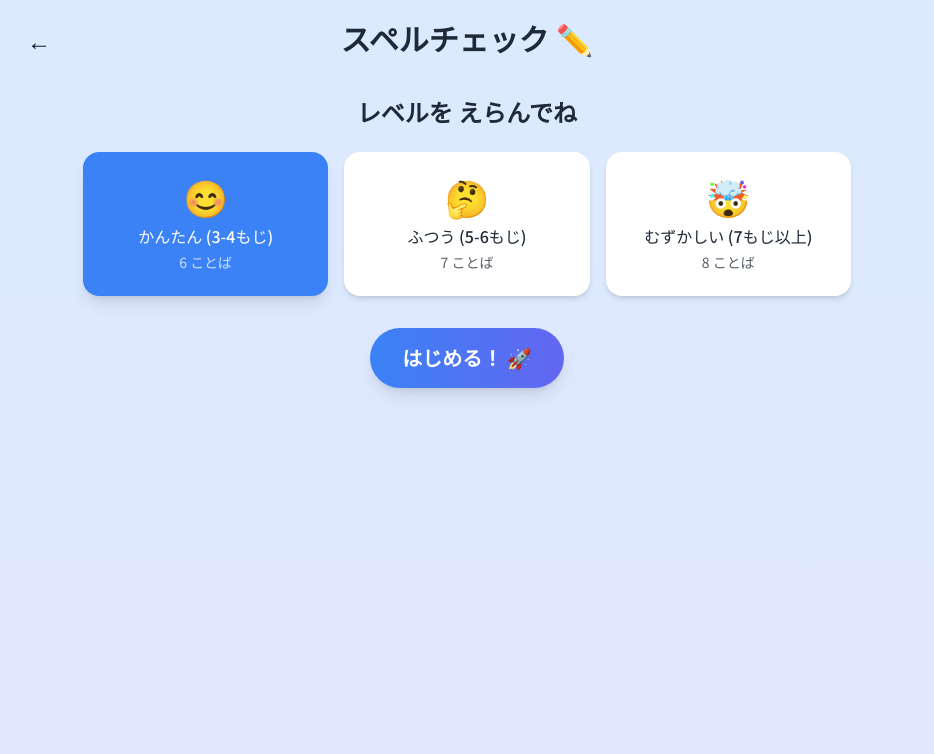
Test: SpellingGamePage › displays game UI when started
Click the button "はじめる！ 🚀" at (467, 358), box [370,328,564,388]
(page scrolled)
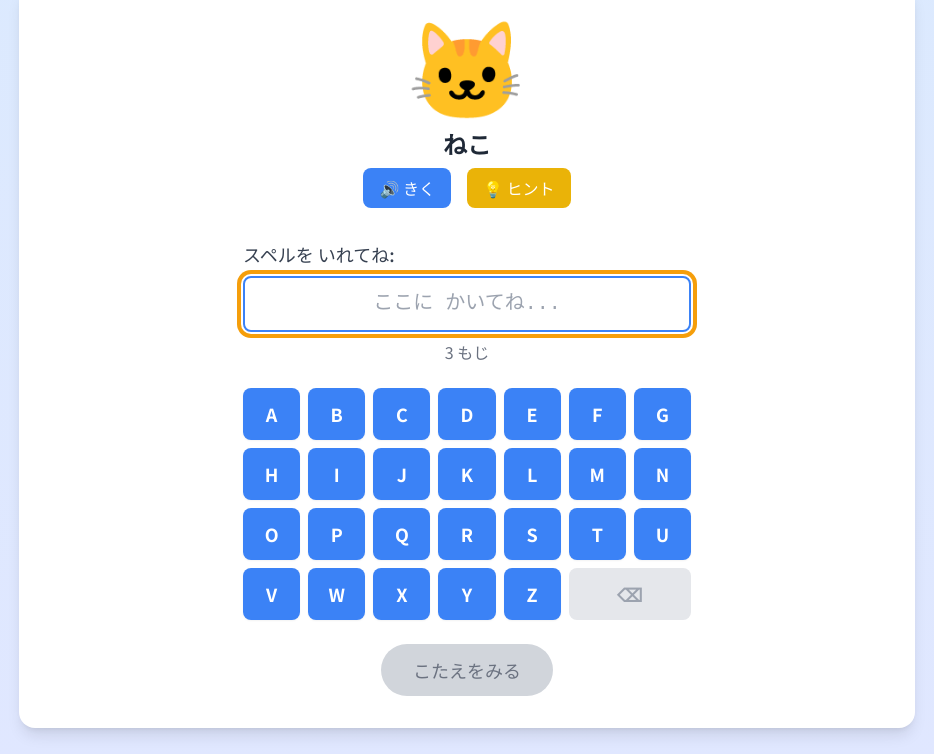
Expected: the text "スペルを いれてね:" is shown, [243,241,395,267]
Expected: the field with placeholder "ここに かいてね..." is shown, [243,276,691,332]
Expected: the button "こたえをみる" is shown, [381,644,553,696]
